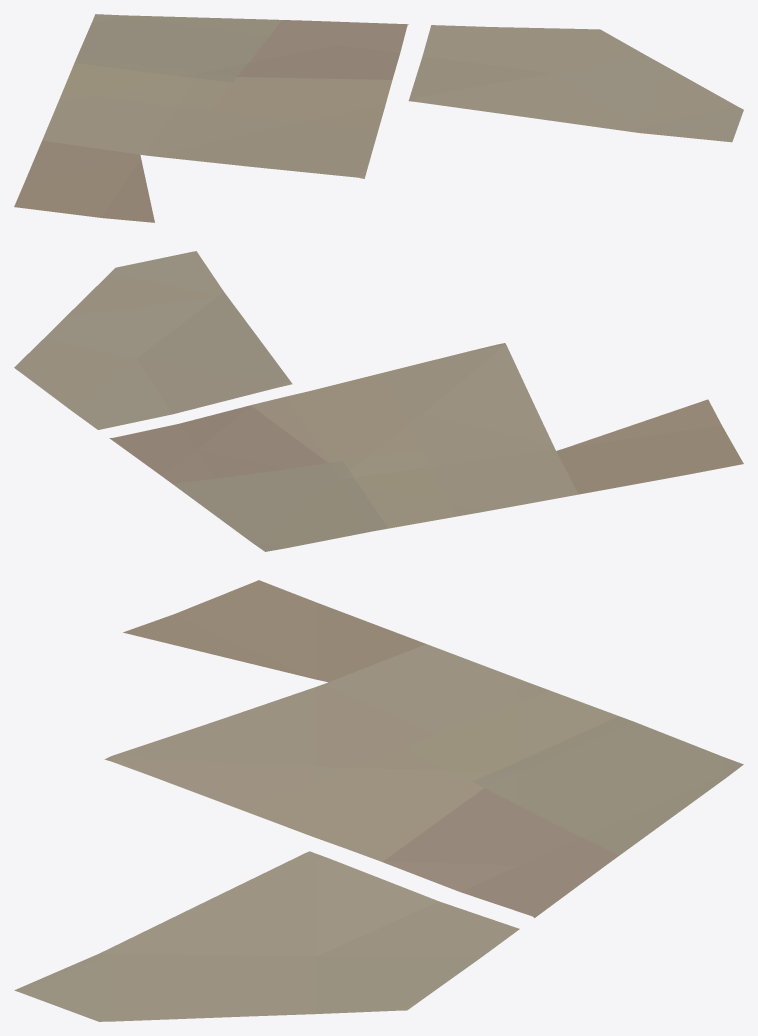
Rendered from farm_15_21_soil.glb.
The picture shows the model from 3 angles, top to bottom: view 1: azimuth 30°, elevation 25°; view 2: azimuth 150°, elevation 25°; view 3: azimuth 270°, elevation 25°; orthographic projection. The views are drawn at different scales.
Parts seen in each view (by area): view 1: geometry_0; view 2: geometry_0; view 3: geometry_0.
Part boxes in pixels (bbox=[...]): geometry_0: bbox=[14, 14, 743, 222]; geometry_0: bbox=[14, 251, 743, 551]; geometry_0: bbox=[14, 580, 743, 1021].
Bounding box in the file's own units: 388 × 13.32 × 287.
